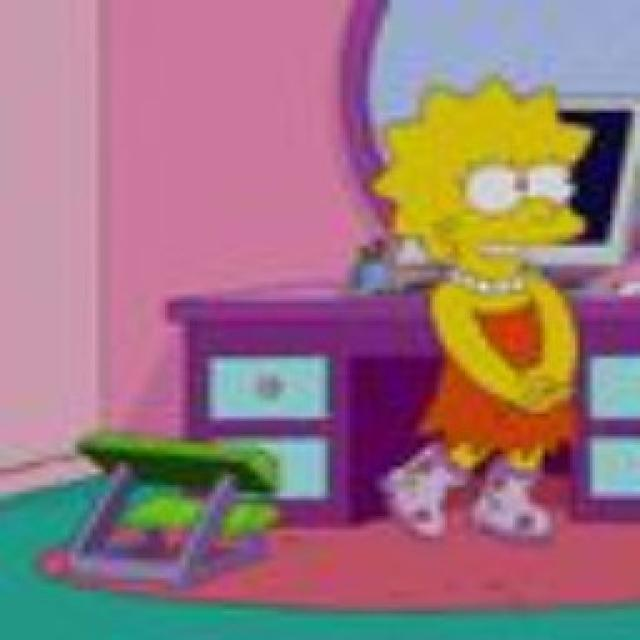Lisa Simpson: (374, 76, 596, 292)
